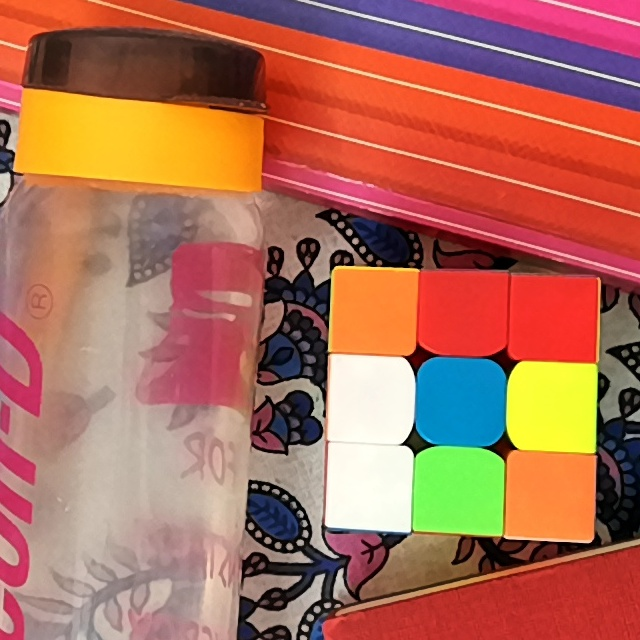tile: (517, 279, 593, 356), (514, 457, 590, 532), (337, 273, 411, 345), (422, 456, 499, 524), (520, 371, 591, 443), (334, 450, 408, 519), (426, 280, 502, 347), (425, 366, 497, 436), (336, 363, 405, 434)
